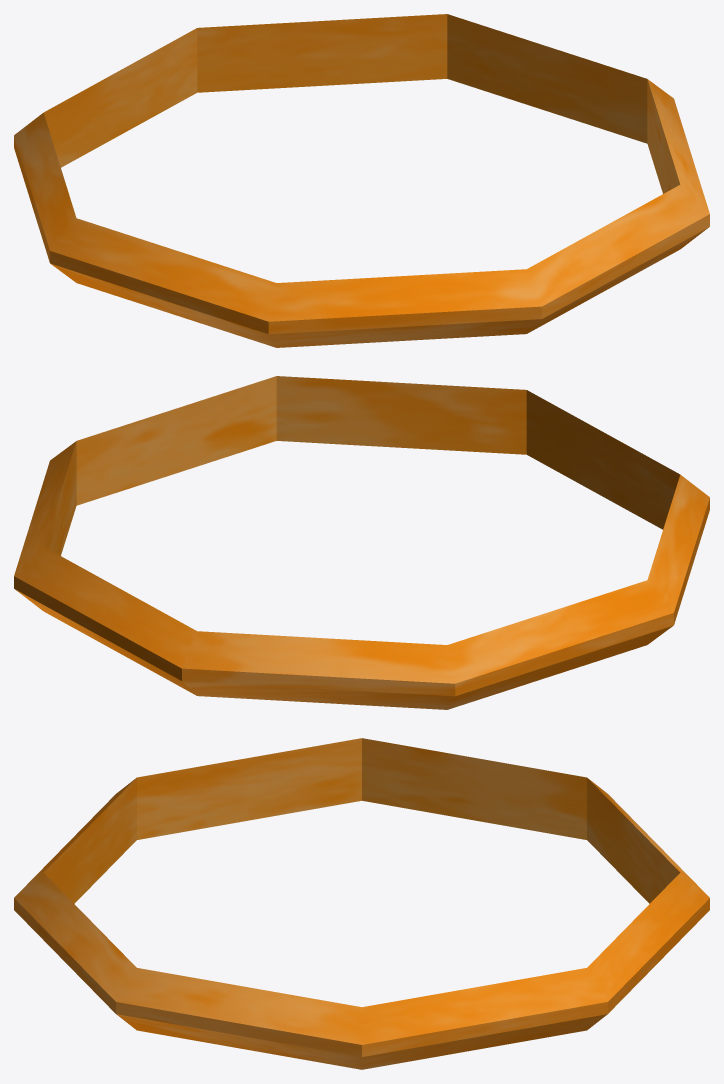
The model's file is Hull_Armour_02.fbx.
The picture shows the model from 3 angles, top to bottom: view 1: azimuth 30°, elevation 25°; view 2: azimuth 150°, elevation 25°; view 3: azimuth 270°, elevation 25°; orthographic projection. The views are drawn at different scales.
Parts seen in each view (by area): view 1: Hull_Armour_02; view 2: Hull_Armour_02; view 3: Hull_Armour_02.
Boxes of the visible parts, <box> form: Hull_Armour_02: <box>14,14,709,347</box>; Hull_Armour_02: <box>14,376,709,709</box>; Hull_Armour_02: <box>14,738,709,1069</box>.
Bounding box in the file's own units: 17.1 × 1.7 × 17.1.
